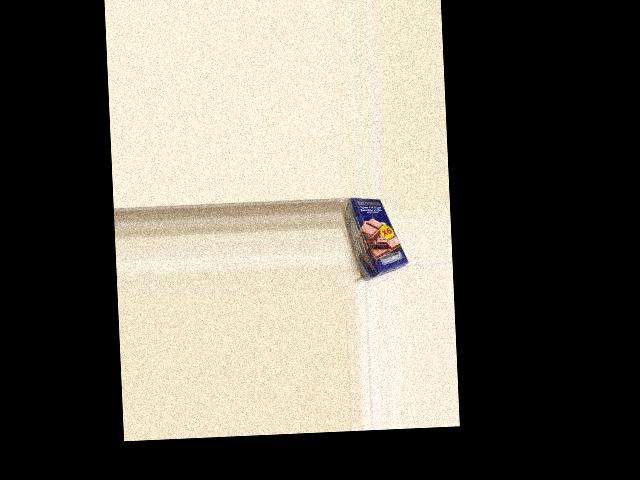chocolate: (345, 195, 409, 276)
